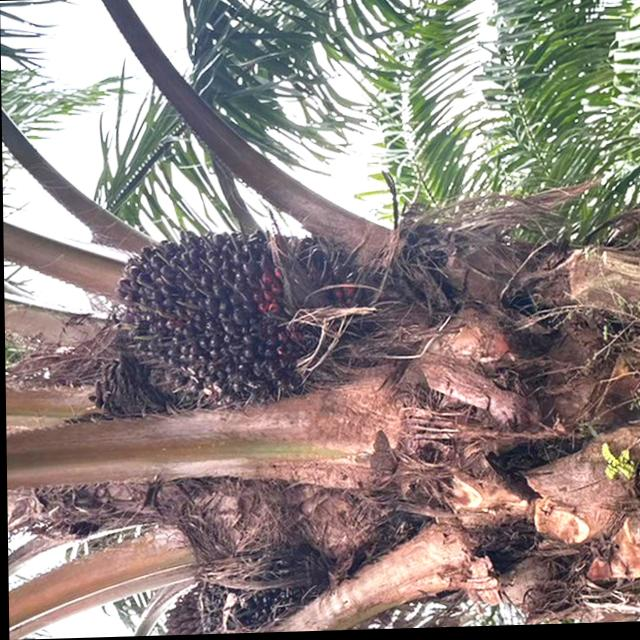ripe: (100, 222, 352, 422)
